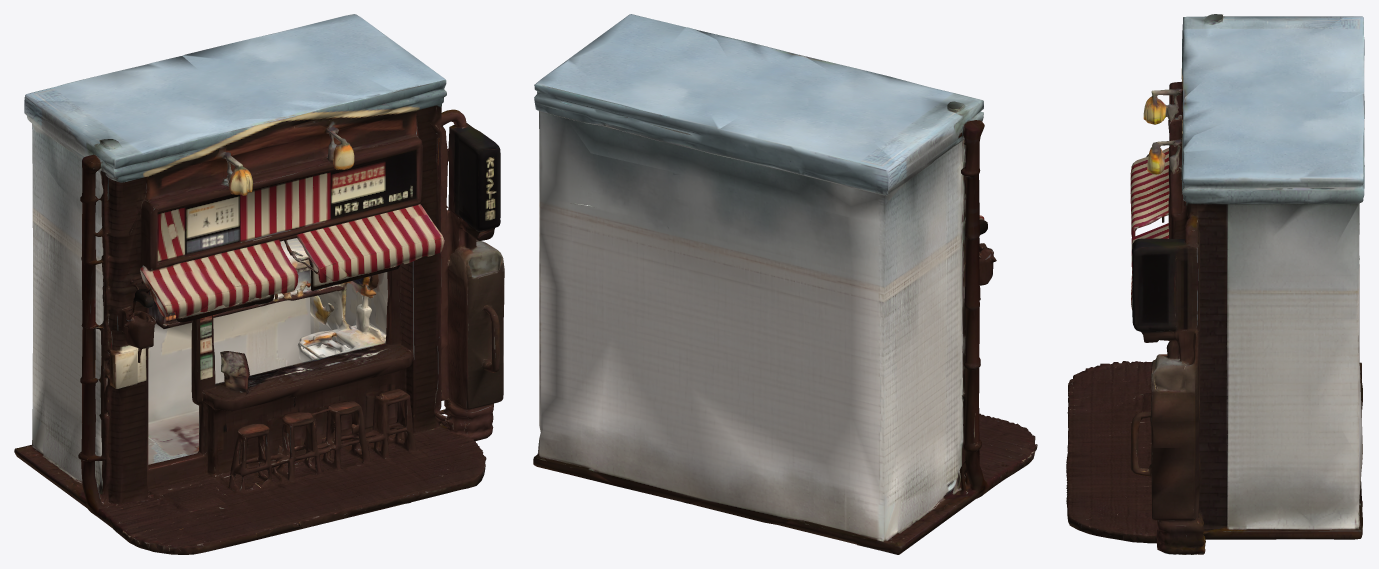
The model's file is ximen_ramen_shop_01.glb.
3 renders of one model, left to right at view 1: azimuth 30°, elevation 25°; view 2: azimuth 150°, elevation 25°; view 3: azimuth 270°, elevation 25°, orthographic. The views are drawn at different scales.
Size of the model in its own units: 2 by 1.79 by 1.32.
Materials: 1 (1 with a texture image).
